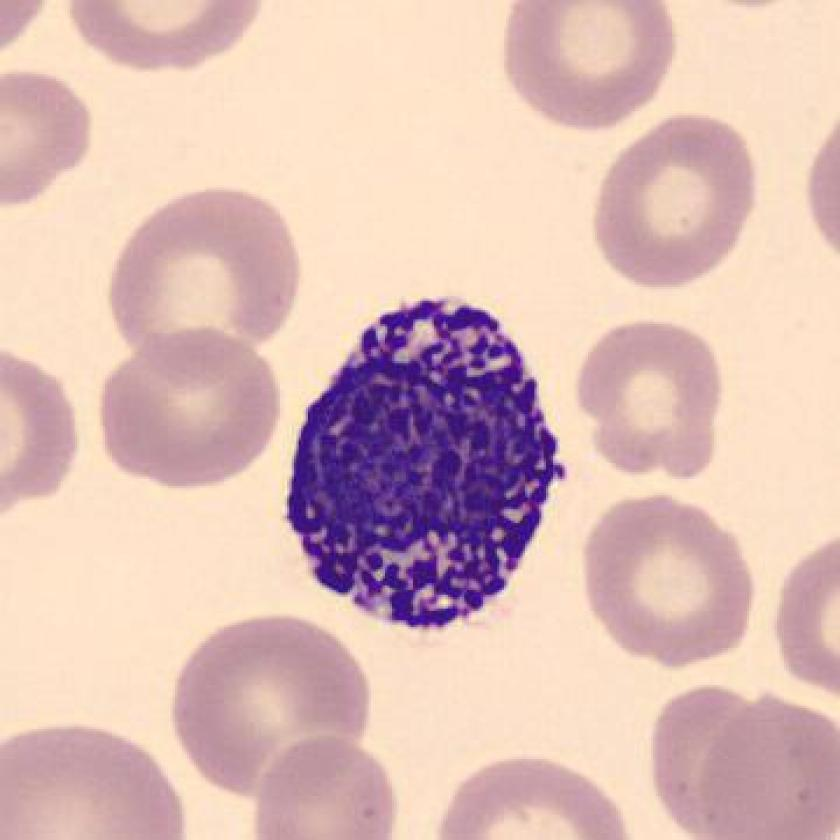basophil: (290, 279, 573, 630)
